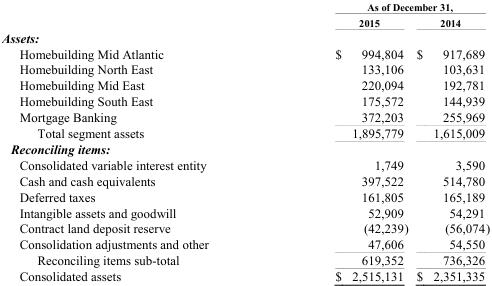table: (1, 0, 489, 283)
table column: (1, 0, 271, 283), (271, 0, 411, 283), (411, 0, 489, 283)
table column header: (1, 0, 489, 29)
table projected row header: (1, 29, 489, 45), (1, 140, 489, 156)
table row: (1, 29, 489, 45), (1, 45, 489, 61), (1, 76, 489, 92), (1, 92, 489, 108), (1, 108, 489, 124), (1, 124, 489, 140), (1, 140, 489, 156), (1, 156, 489, 172), (1, 172, 489, 188), (1, 188, 489, 204), (1, 204, 489, 220), (1, 235, 489, 251), (1, 251, 489, 267), (1, 267, 489, 283), (1, 14, 489, 29), (1, 61, 489, 76), (1, 220, 489, 235), (1, 0, 489, 14)
table spanning cell: (271, 0, 489, 14)
